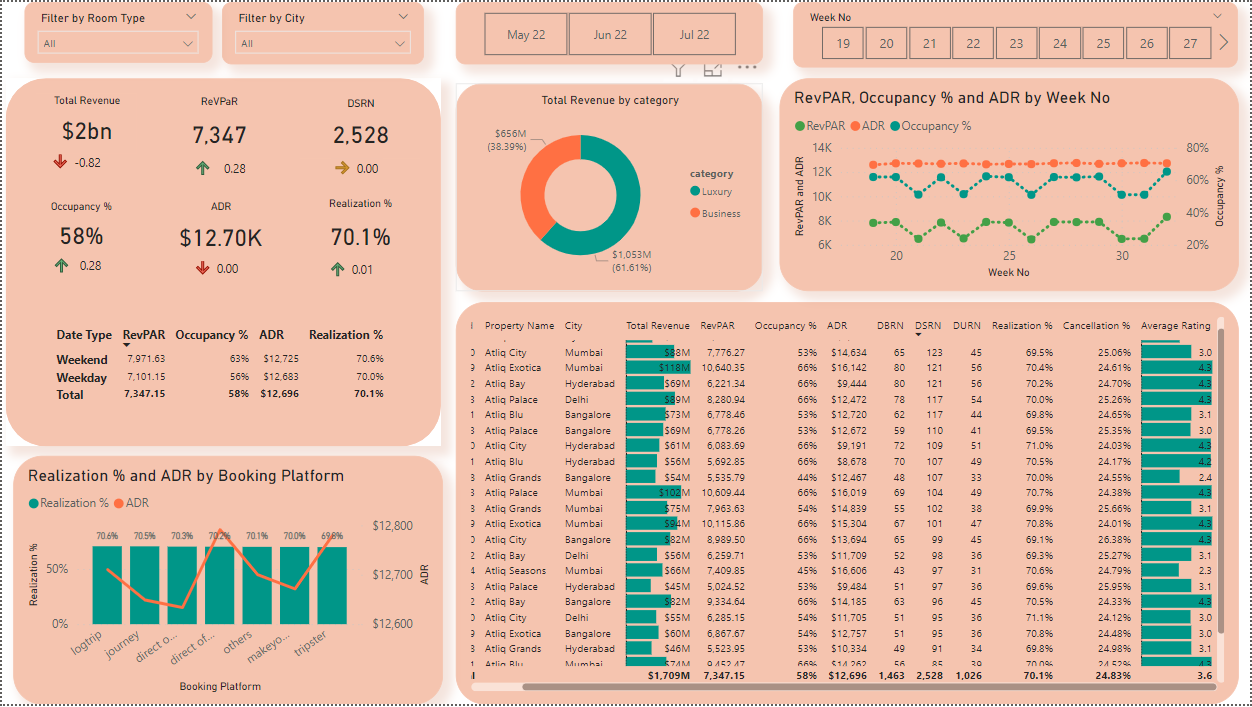

This screenshot's page, from the dashboard's own definition file:
{"tool":"powerbi","page":{"name":"Hotels","canvas":[1280,720],"ordinal":0},"visuals":[{"type":"shape","box":[3.6,78.4,446.2,377.5],"z":0},{"type":"donutChart","fields":{"Category":["dim_hotels.category"],"Y":["new_measures.Total Revenue"]},"box":[465,83.5,315.5,213.6],"z":1000},{"type":"slicer","fields":{"Values":["dim_hotels.city"]},"box":[226.2,0,207.5,63.8],"z":2000},{"type":"slicer","fields":{"Values":["dim_rooms.room_class"]},"box":[22.5,0,192.5,62.5],"z":3000},{"type":"slicer","fields":{"Values":["dim_date.mmm yy"]},"box":[465,0,315,63.8],"z":4000},{"type":"slicer","fields":{"Values":["dim_date.Week_no"]},"box":[811.2,0,456.2,67.5],"z":5000},{"type":"tableEx","fields":{"Values":["new_measures.rev WoW %"]},"box":[40.7,126,91.2,57.5],"z":6000,"group":"g1"},{"type":"tableEx","fields":{"Values":["new_measures.revpar WoW%"]},"box":[187,132.2,96.2,62.5],"z":7000,"group":"g1"},{"type":"tableEx","fields":{"Values":["new_measures.DSRN WoW%"]},"box":[330.7,132.2,82.5,70],"z":8000,"group":"g1"},{"type":"tableEx","fields":{"Values":["new_measures.Occupancy WOW%"]},"box":[41.1,232.5,83.3,55.6],"z":10000,"group":"g1"},{"type":"tableEx","fields":{"Values":["new_measures.realization WoW%"]},"box":[324.5,237,82.2,58.9],"z":13000,"group":"g1"},{"type":"card","title":"Realization %","fields":{"Values":["new_measures.Realization %"]},"box":[303.3,200.3,127.8,66.7],"z":13500,"group":"g1"},{"type":"tableEx","fields":{"Values":["dim_hotels.property_id","dim_hotels.property_name","dim_hotels.city","new_measures.Total Revenue","new_measures.RevPAR","new_measures.Occupancy %","new_measures.Average Daily Rate(ADR)","new_measures.DBRN","new_measures.DSRN","new_measures.DURN","new_measures.Realization %","new_measures.Cancellation %"]},"box":[465,307.8,802.9,412.6],"z":15000},{"type":"card","title":"Total Revenue","fields":{"Values":["new_measures.Total Revenue"]},"box":[33.5,94.1,103.9,62.1],"z":16000,"group":"g1"},{"type":"card","title":"ReVPaR","fields":{"Values":["new_measures.RevPAR"]},"box":[160.7,96,122.5,67.5],"z":17000,"group":"g1"},{"type":"lineClusteredColumnComboChart","fields":{"Category":["fact_bookings.booking_platform"],"Y":["new_measures.Realization %"],"Y2":["new_measures.ADR"]},"box":[11.7,465,440.8,255.3],"z":17000},{"type":"card","title":"DSRN","fields":{"Values":["new_measures.DSRN"]},"box":[304.4,97.1,124.3,65],"z":18000,"group":"g1"},{"type":"lineChart","title":"RevPAR, Occupancy % and ADR by Week No","fields":{"Category":["dim_date.Week_no"],"Y":["new_measures.RevPAR","new_measures.ADR"],"Y2":["new_measures.Occupancy %"]},"box":[797.1,78.6,470.9,218.4],"z":19000},{"type":"pivotTable","fields":{"Rows":["dim_date.Day_type"],"Values":["new_measures.RevPAR","new_measures.Occupancy %","new_measures.ADR","new_measures.Realization %"]},"box":[35.6,316.7,383.3,115.6],"z":20000},{"type":"tableEx","fields":{"Values":["new_measures.ADR WoW%"]},"box":[186.7,234.7,83.3,56.7],"z":21000,"group":"g1"},{"type":"card","title":"Occupancy %","fields":{"Values":["new_measures.Occupancy %"]},"box":[28.9,202.5,103.3,60],"z":21500,"group":"g1"},{"type":"card","title":"ADR","fields":{"Values":["new_measures.ADR"]},"box":[162.2,202.5,123.3,63.3],"z":22000,"group":"g1"},{"type":"group","id":"g1","title":"Group 1","box":[28.9,94.1,401.6,201.4],"z":22001}]}

Visuals, with their boxes in screenshot pixels (x1, y1, x2, y2), scaled from the page's 1280x720 canvas onto the 1252x707 screenshot:
shape: 4/77/440/448
donutChart - dim_hotels.category x new_measures.Total Revenue: 455/82/763/292
slicer - dim_hotels.city: 221/0/424/63
slicer - dim_rooms.room_class: 22/0/210/61
slicer - dim_date.mmm yy: 455/0/763/63
slicer - dim_date.Week_no: 793/0/1240/66
tableEx - new_measures.rev WoW %: 40/124/129/180
tableEx - new_measures.revpar WoW%: 183/130/277/191
tableEx - new_measures.DSRN WoW%: 323/130/404/199
tableEx - new_measures.Occupancy WOW%: 40/228/122/283
tableEx - new_measures.realization WoW%: 317/233/398/291
"Realization %" card: 297/197/422/262
tableEx - dim_hotels.property_id x dim_hotels.property_name: 455/302/1240/706
"Total Revenue" card: 33/92/134/153
"ReVPaR" card: 157/94/277/161
lineClusteredColumnComboChart - fact_bookings.booking_platform x new_measures.Realization %: 11/457/443/706
"DSRN" card: 298/95/419/159
"RevPAR, Occupancy % and ADR by Week No" lineChart: 780/77/1240/292
pivotTable - dim_date.Day_type x new_measures.RevPAR: 35/311/410/424
tableEx - new_measures.ADR WoW%: 183/230/264/286
"Occupancy %" card: 28/199/129/258
"ADR" card: 159/199/279/261
"Group 1" group: 28/92/421/290
